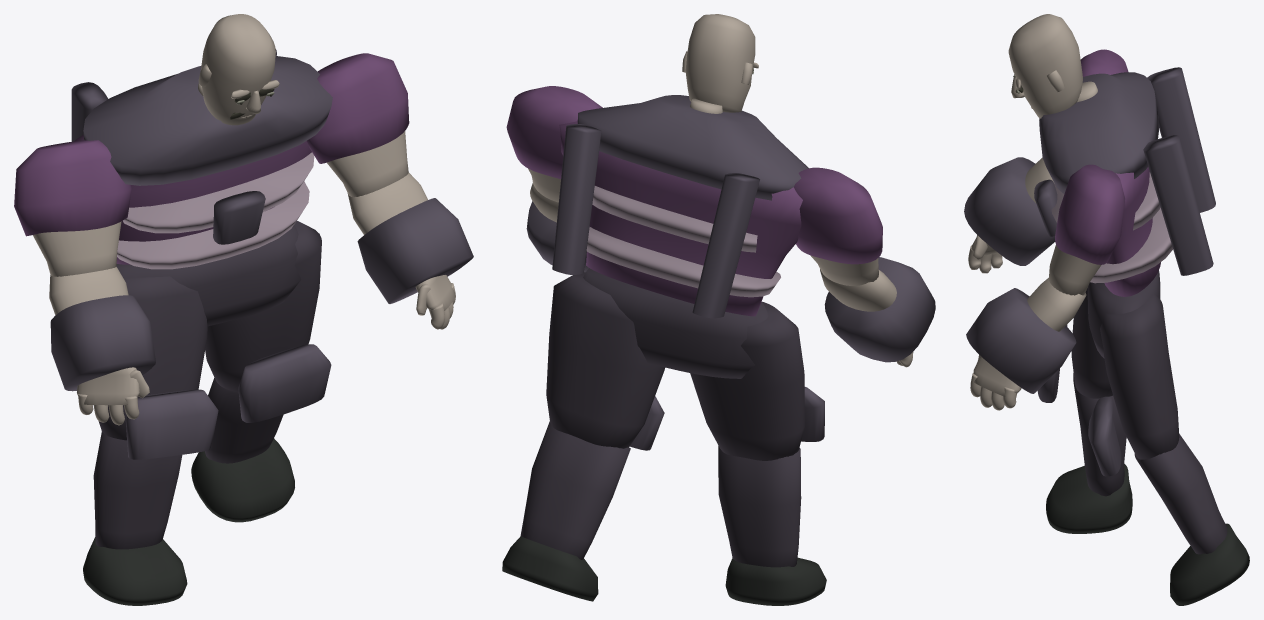
The model's file is enemy-lab-titan.glb.
3 views of the same model, side by side, from view 1: azimuth 30°, elevation 25°; view 2: azimuth 150°, elevation 25°; view 3: azimuth 270°, elevation 25° (orthographic). The views are drawn at different scales.
Visible parts, largest first — view 1: Titan restraint yoke, Short sleeve_L, Short sleeve_R, Trouser shin_L, Titan forearm restraint_1, Trouser thigh_R, Titan forearm restraint_-1, Waist, Trouser thigh_L, Anatomical head, Shoe_R, Shoe_L (+14 smaller); view 2: Trouser thigh_R, Chest, Titan restraint yoke, Trouser thigh_L, Trouser shin_R, Waist, Trouser shin_L, Short sleeve_L, Titan forearm restraint_-1, Anatomical head, Titan back rail_1, Short sleeve_R (+11 smaller); view 3: Titan restraint yoke, Trouser thigh_R, Titan forearm restraint_1, Titan forearm restraint_-1, Anatomical head, Short sleeve_R, Trouser shin_R, Titan back rail_1, Shoe_L, Titan back rail_-1, Shoe_R, Chest (+13 smaller).
Part boxes in pixels (bbox=[...]): Titan restraint yoke: bbox=[83, 56, 332, 185]; Short sleeve_L: bbox=[14, 140, 131, 236]; Short sleeve_R: bbox=[307, 53, 409, 163]; Trouser shin_L: bbox=[93, 432, 182, 549]; Titan forearm restraint_1: bbox=[357, 198, 473, 303]; Trouser thigh_R: bbox=[205, 221, 321, 392]; Titan forearm restraint_-1: bbox=[50, 295, 155, 391]; Waist: bbox=[116, 225, 301, 326]; Trouser thigh_L: bbox=[98, 276, 207, 440]; Anatomical head: bbox=[200, 14, 275, 125]; Shoe_R: bbox=[191, 438, 294, 522]; Shoe_L: bbox=[83, 537, 187, 605]; Trouser thigh_R: bbox=[546, 272, 665, 448]; Chest: bbox=[559, 121, 802, 316]; Titan restraint yoke: bbox=[577, 95, 808, 200]; Trouser thigh_L: bbox=[690, 301, 804, 460]; Trouser shin_R: bbox=[520, 421, 630, 559]; Waist: bbox=[583, 268, 768, 378]; Trouser shin_L: bbox=[718, 446, 801, 567]; Short sleeve_L: bbox=[794, 167, 882, 264]; Titan forearm restraint_-1: bbox=[824, 257, 935, 362]; Anatomical head: bbox=[685, 14, 755, 112]; Titan back rail_1: bbox=[552, 124, 601, 274]; Short sleeve_R: bbox=[506, 86, 602, 179]; Titan restraint yoke: bbox=[1039, 72, 1158, 193]; Trouser thigh_R: bbox=[1100, 293, 1179, 459]; Titan forearm restraint_1: bbox=[966, 288, 1076, 393]; Titan forearm restraint_-1: bbox=[964, 157, 1055, 265]; Anatomical head: bbox=[1008, 14, 1082, 118]; Short sleeve_R: bbox=[1055, 164, 1124, 264]; Trouser shin_R: bbox=[1134, 433, 1227, 554]; Titan back rail_1: bbox=[1143, 135, 1213, 275]; Shoe_L: bbox=[1046, 464, 1132, 533]; Titan back rail_-1: bbox=[1147, 67, 1215, 212]; Shoe_R: bbox=[1170, 523, 1249, 605]; Chest: bbox=[1104, 167, 1160, 296].
Bounding box in the file's own units: 1.25 × 1.71 × 0.8208.
